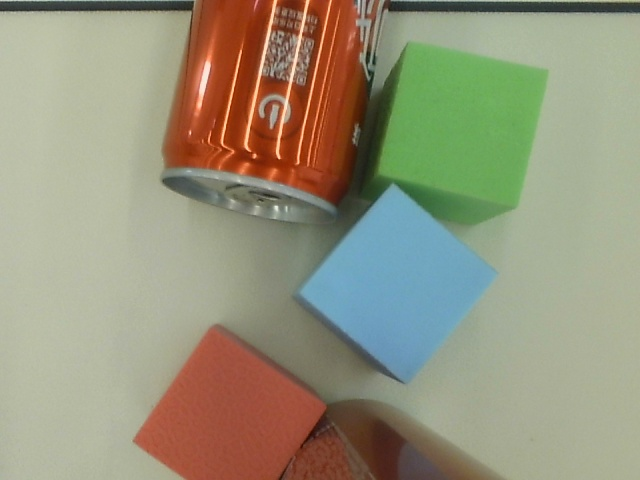bluecube: (290, 180, 514, 389)
cola: (146, 1, 401, 230), (263, 385, 526, 480)
greencube: (356, 37, 555, 231)
redcube: (124, 321, 332, 480)
